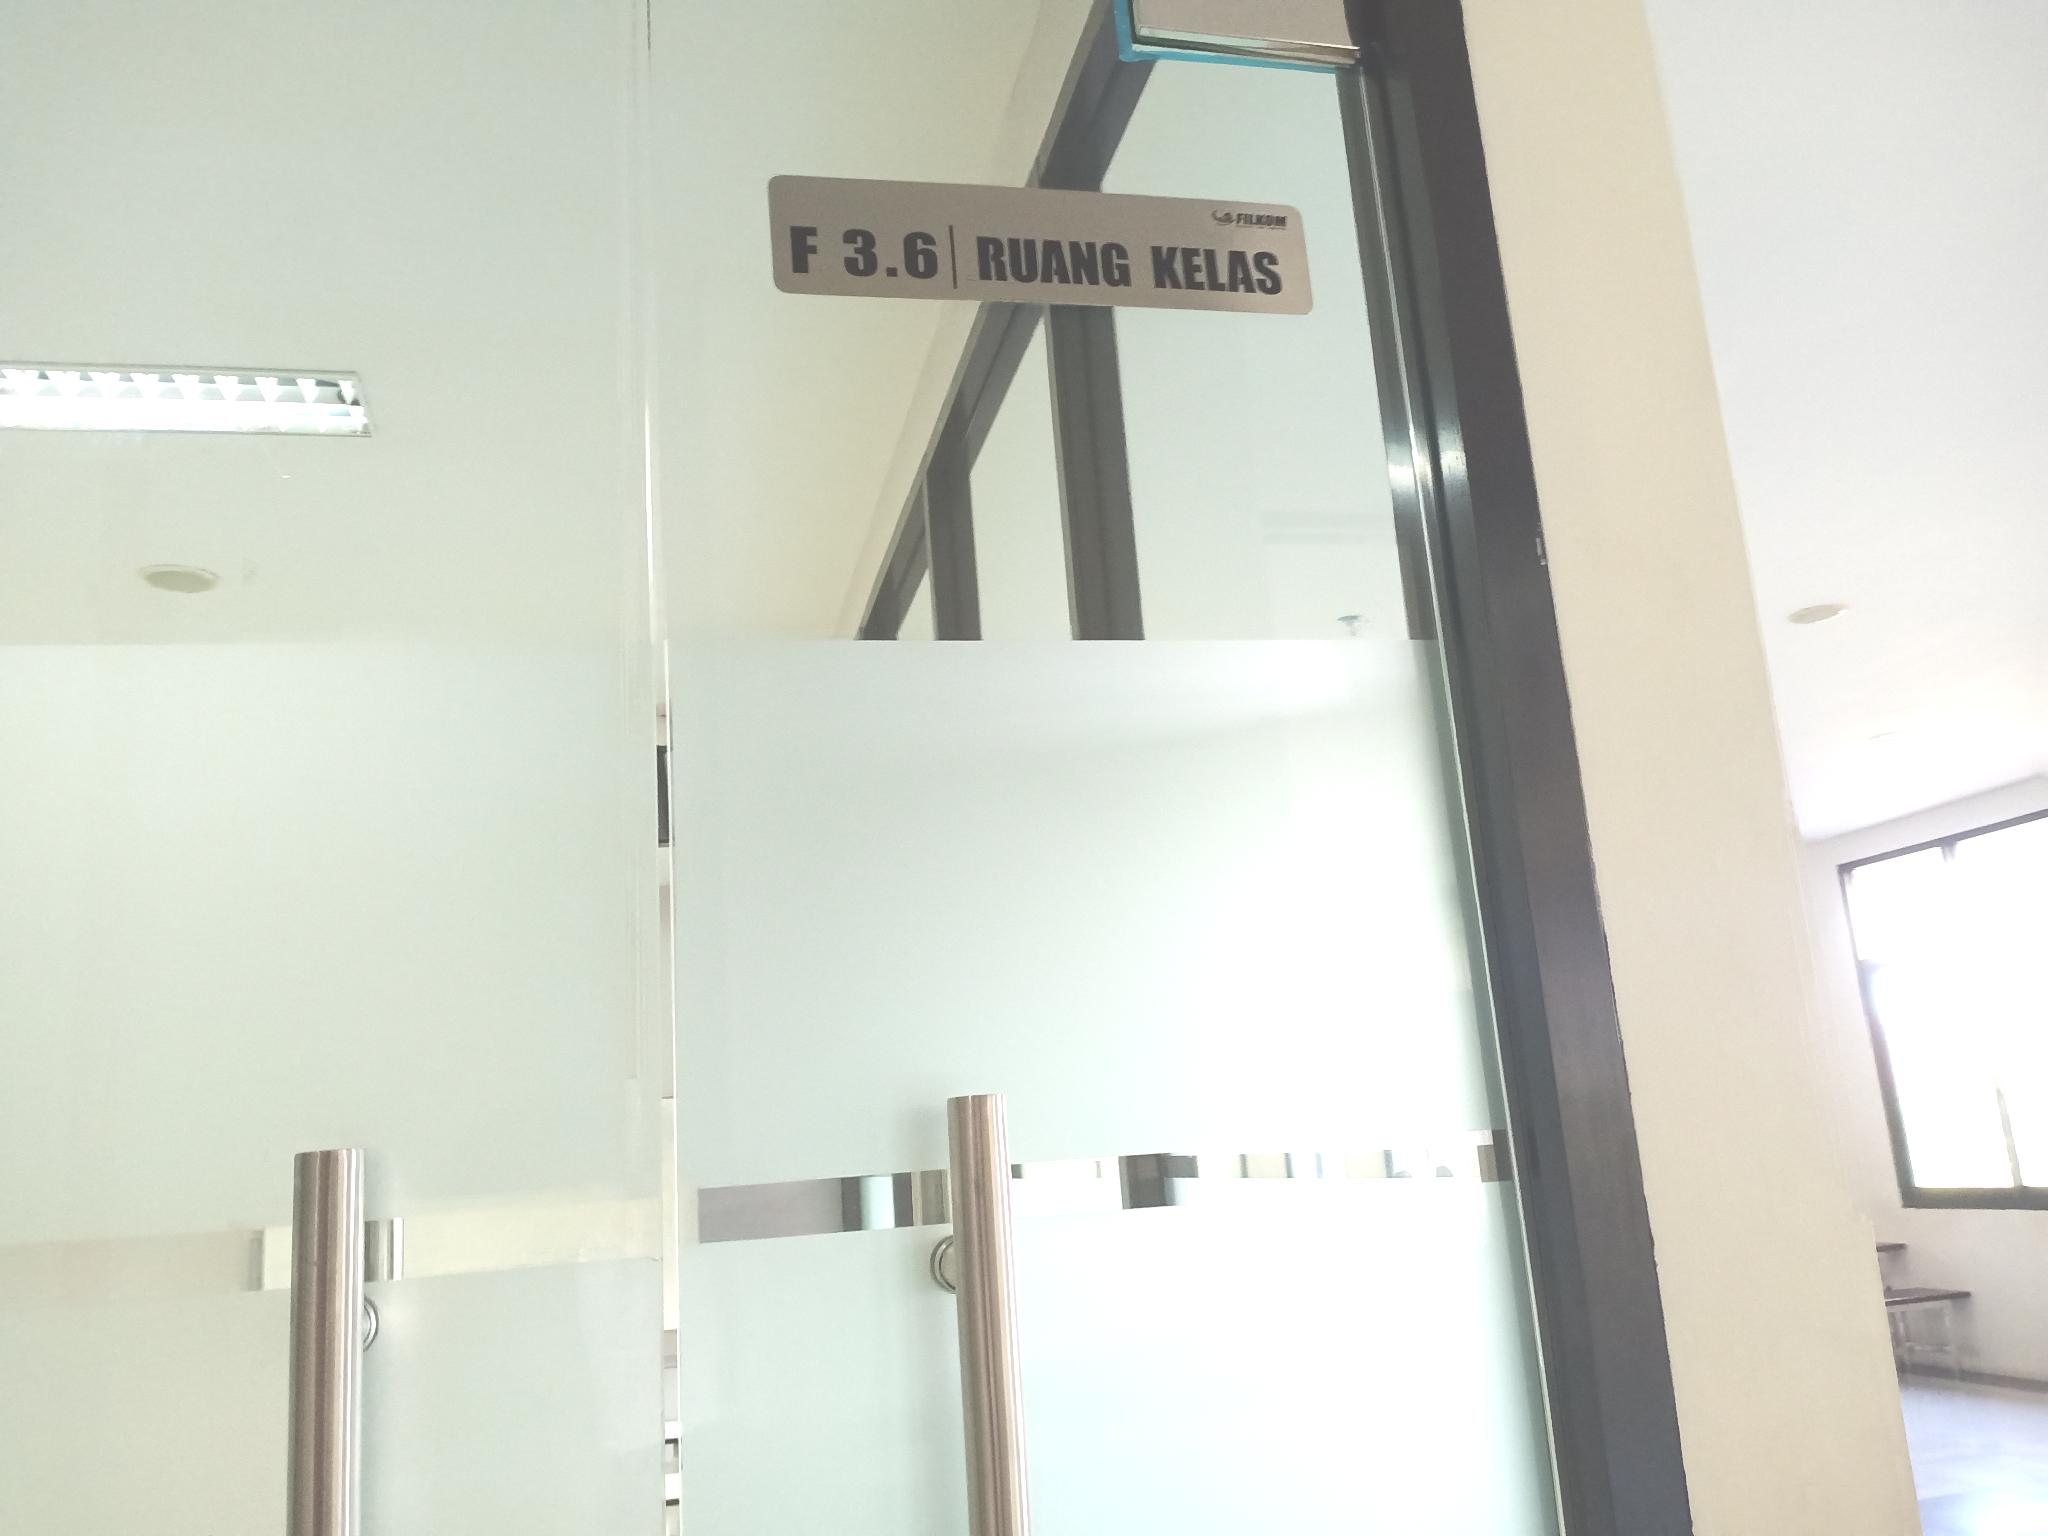plate: (766, 173, 1314, 315)
